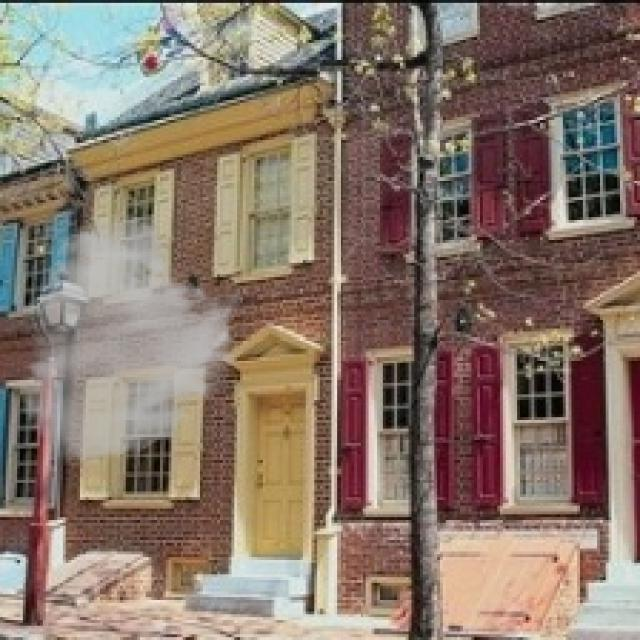smoke: (17, 212, 246, 468)
